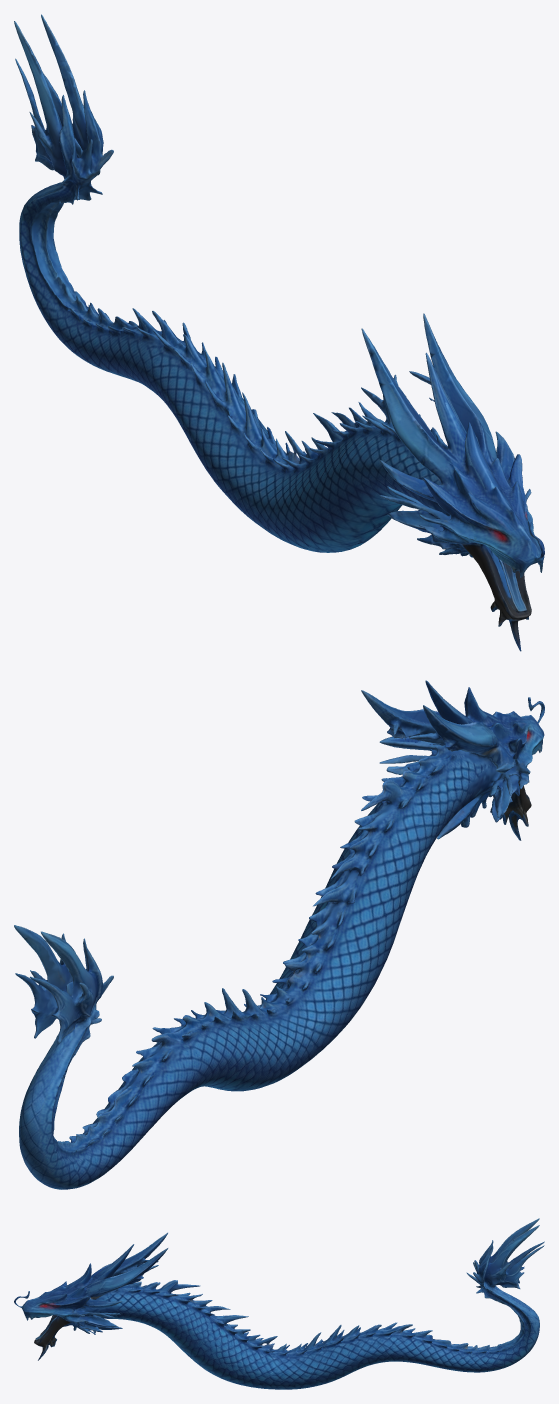
File: stormscale_wyrm.glb
3 views of the same model, one above another, from view 1: azimuth 30°, elevation 25°; view 2: azimuth 150°, elevation 25°; view 3: azimuth 270°, elevation 25° (orthographic). The views are drawn at different scales.
Visible parts, largest first — view 1: mesh_node; view 2: mesh_node; view 3: mesh_node.
Boxes of the visible parts, x1,y1,x2,y2 form: mesh_node: (14, 14, 544, 651); mesh_node: (14, 680, 544, 1189); mesh_node: (14, 1218, 544, 1389).
Bounding box in the file's own units: 0.2765 × 0.657 × 1.9.
Materials: 1 (1 with a texture image).
